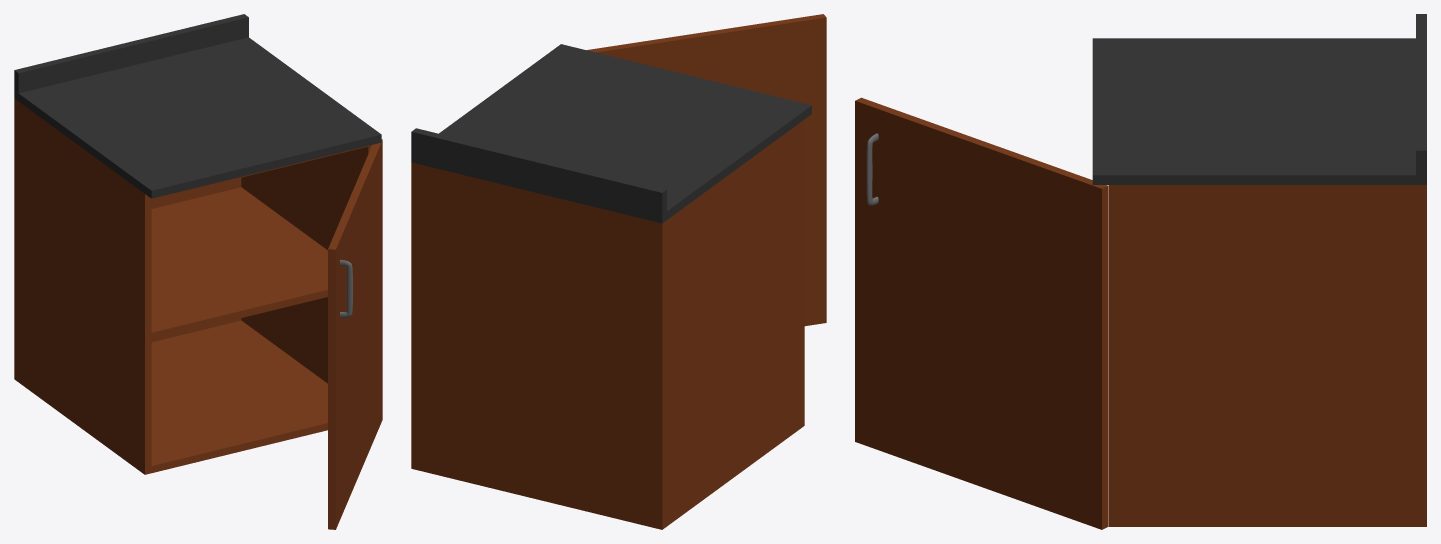
Rendered from CabinetFix.obj.
3 views of the same model, side by side, from view 1: azimuth 30°, elevation 25°; view 2: azimuth 150°, elevation 25°; view 3: azimuth 270°, elevation 25° (orthographic). The views are drawn at different scales.
Visible parts, largest first — view 1: Cabinet1, Countertop1, Cabinet1_Door; view 2: Cabinet1, Countertop1, Cabinet1_Door; view 3: Cabinet1, Cabinet1_Door, Countertop1.
Part boxes in pixels (<box>): Cabinet1: <box>14,98,371,474</box>; Countertop1: <box>14,14,381,198</box>; Cabinet1_Door: <box>328,139,382,529</box>; Cabinet1: <box>411,119,804,529</box>; Countertop1: <box>411,44,811,223</box>; Cabinet1_Door: <box>586,14,826,326</box>; Cabinet1: <box>1108,185,1426,526</box>; Cabinet1_Door: <box>855,97,1108,529</box>; Countertop1: <box>1092,14,1426,184</box>.
Size of the model in its own units: 0.6128 by 0.77 by 1.06.
